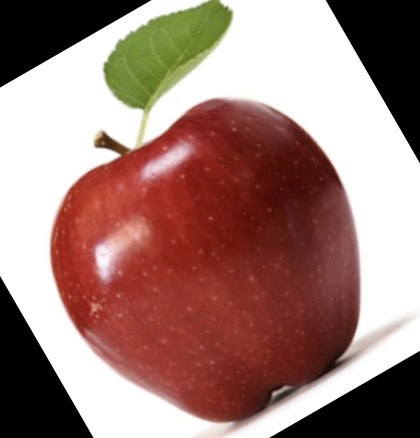fresh_apple: (43, 97, 363, 422)
